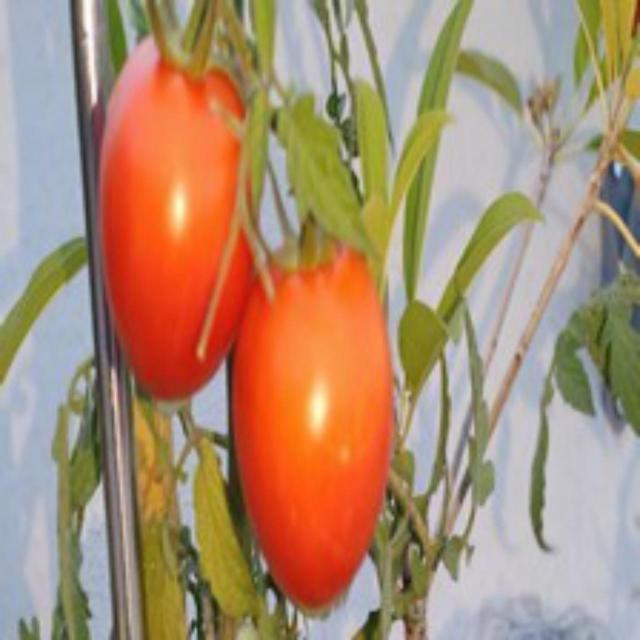tomato: (82, 28, 281, 411), (219, 224, 407, 613)
